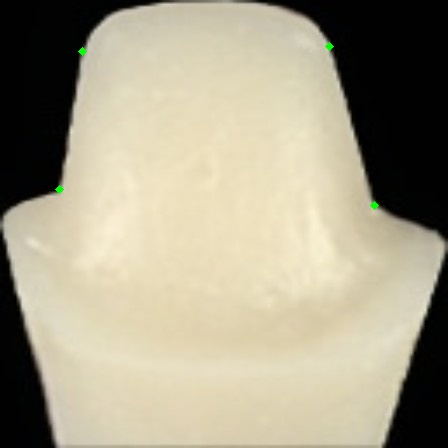coin_1: (59, 189, 79, 209)
coin_2: (82, 51, 102, 71)
coin_3: (374, 205, 394, 225)
coin_4: (329, 46, 349, 66)
